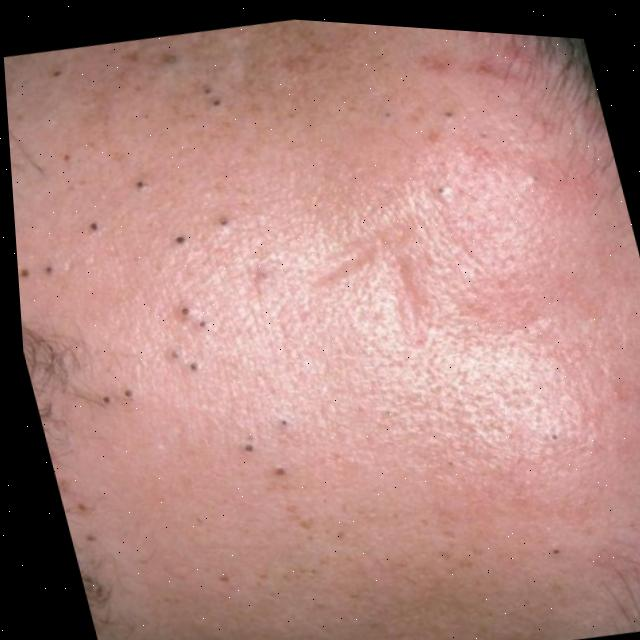Rosacea: (3, 39, 393, 628)
